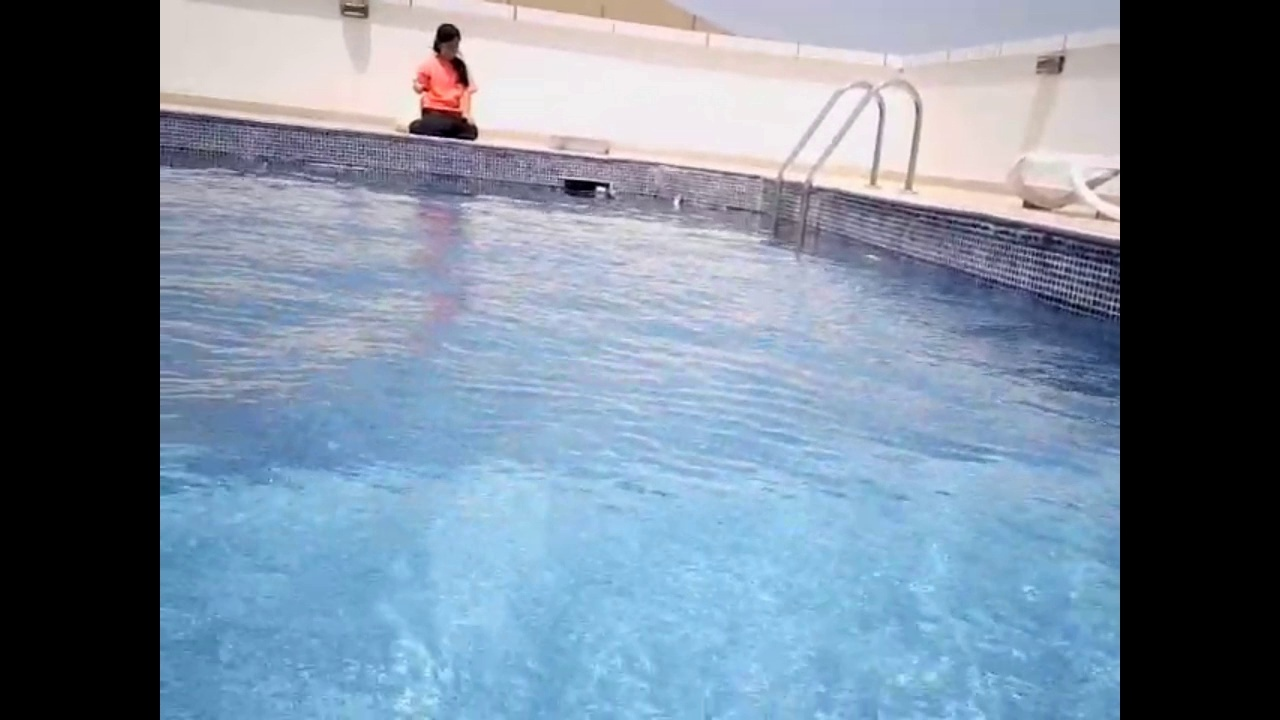debris: (590, 184, 618, 202), (670, 191, 686, 211)
